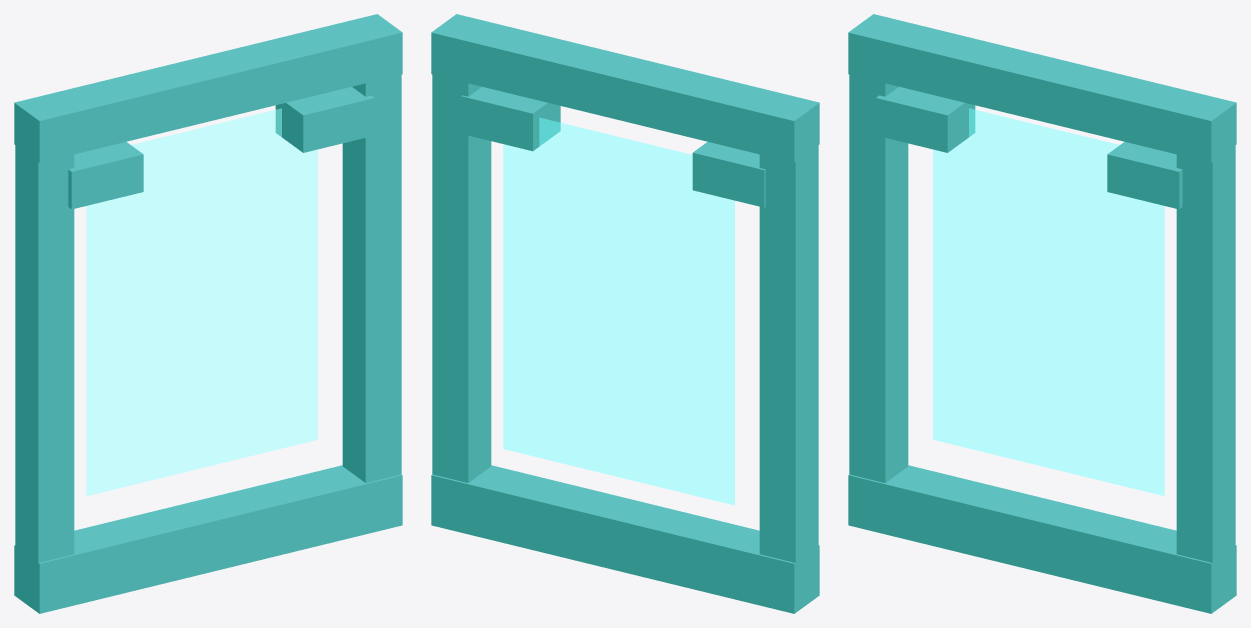
The model's file is portal_gate.glb.
3 views of the same model, side by side, from view 1: azimuth 30°, elevation 25°; view 2: azimuth 150°, elevation 25°; view 3: azimuth 330°, elevation 25° (orthographic).
Visible parts, largest first — view 1: Portal Frame, Portal Energy; view 2: Portal Frame, Portal Energy; view 3: Portal Frame, Portal Energy.
Boxes of the visible parts, x1,y1,x2,y2 form: Portal Frame: [14, 14, 402, 613]; Portal Energy: [86, 108, 317, 495]; Portal Frame: [431, 14, 819, 613]; Portal Energy: [503, 118, 734, 505]; Portal Frame: [848, 14, 1236, 613]; Portal Energy: [933, 108, 1164, 495].
Bounding box in the file's own units: 1.82 × 2.36 × 0.24.
